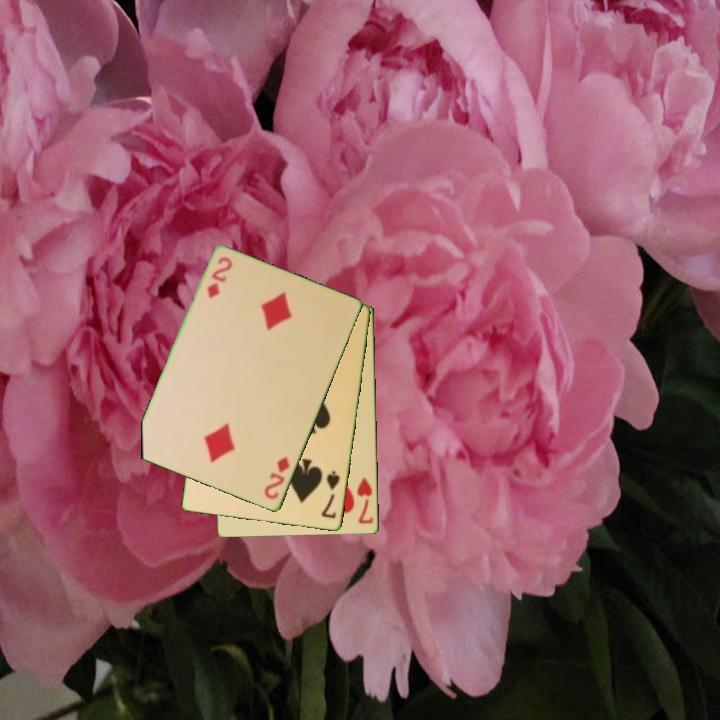2d: (261, 453, 293, 503), (204, 253, 234, 301)
7h: (354, 474, 376, 527)
7s: (318, 467, 343, 522)
